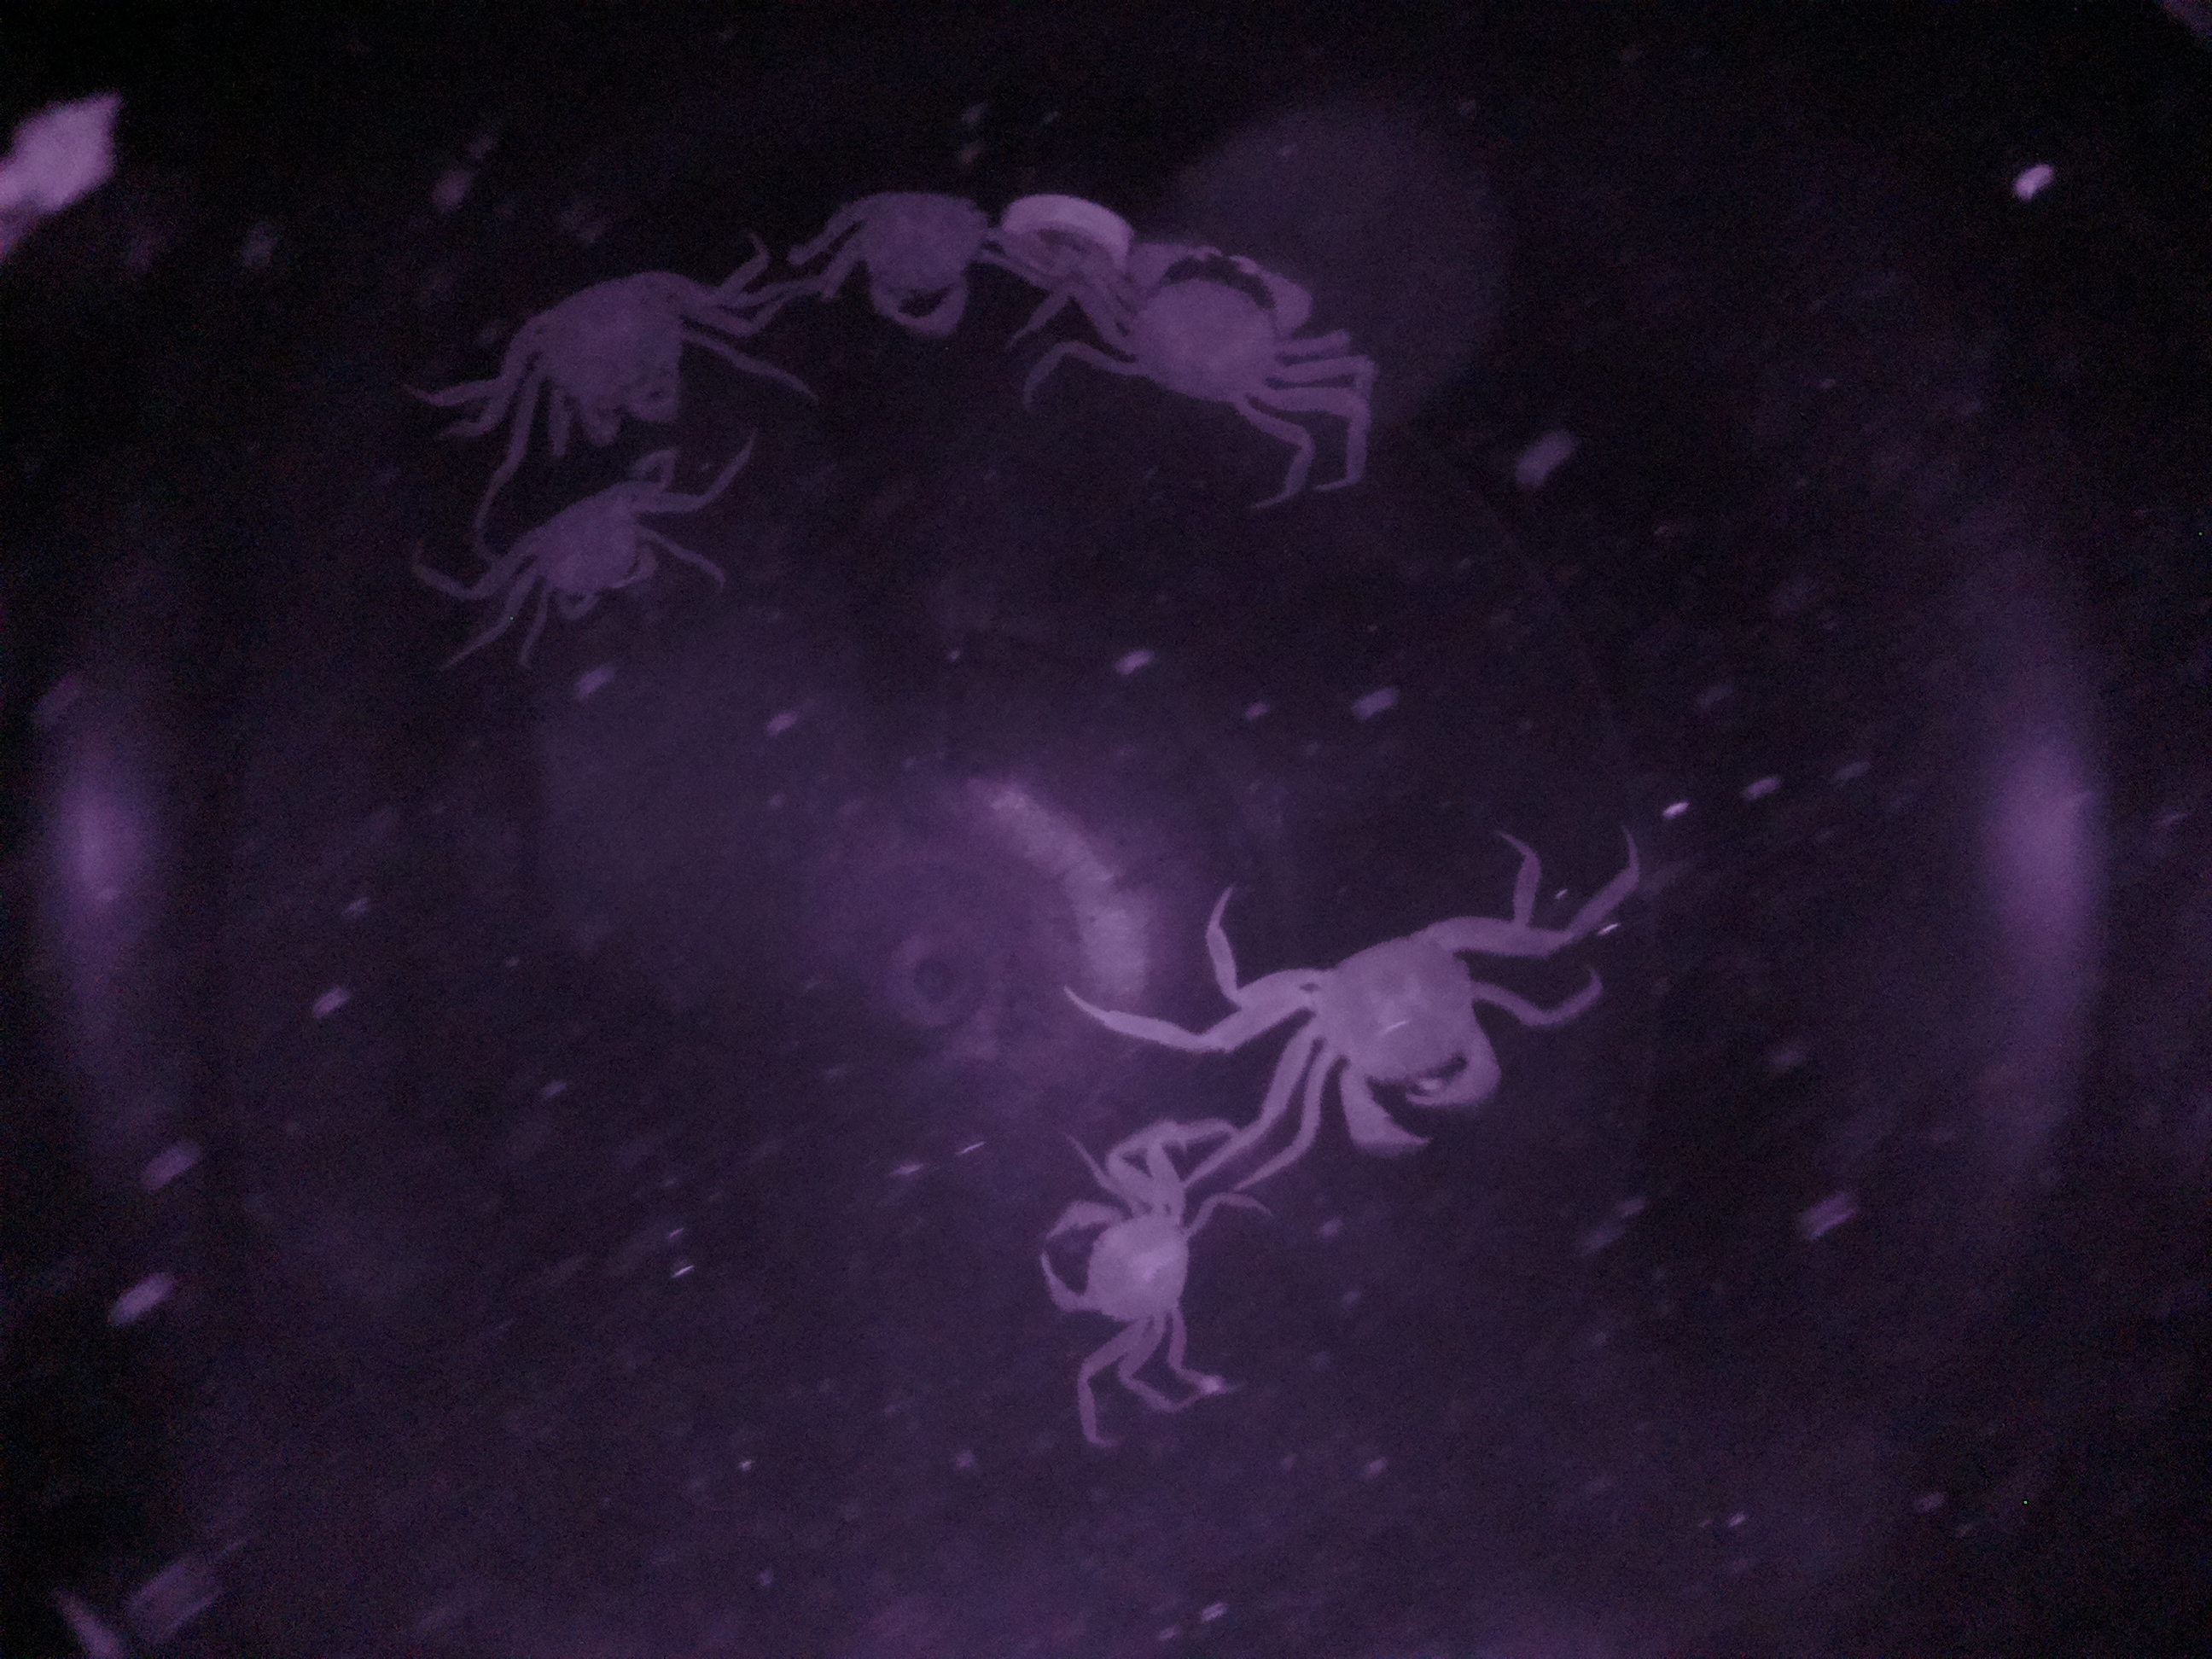Crab: (1258, 889, 1533, 1187), (1062, 230, 1339, 434), (470, 457, 698, 640), (1021, 1169, 1204, 1368)
